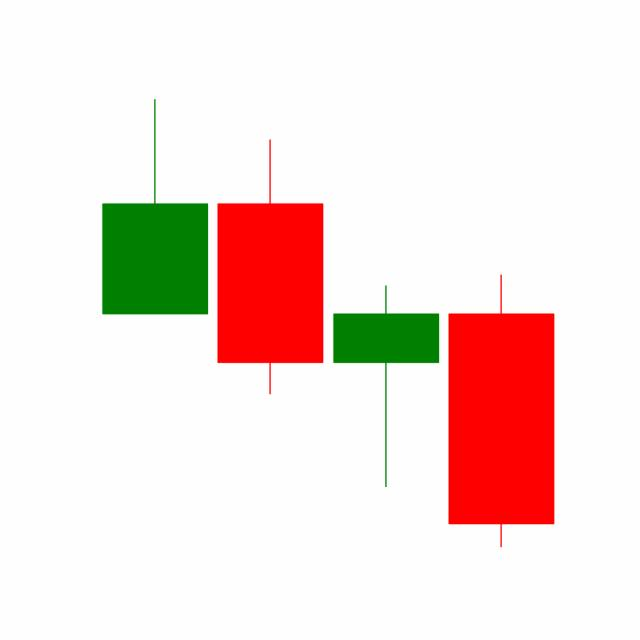Hammer: (328, 283, 444, 490)
